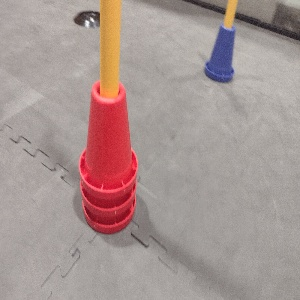Blue_1: (203, 22, 234, 83)
Red_3: (77, 80, 137, 234)
